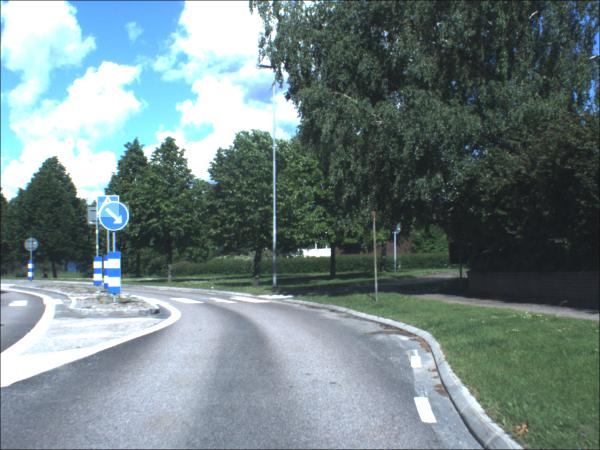PASS_RIGHT_SIDE: (100, 203, 131, 232)
PEDESTRIAN_CROSSING: (98, 197, 121, 219)
